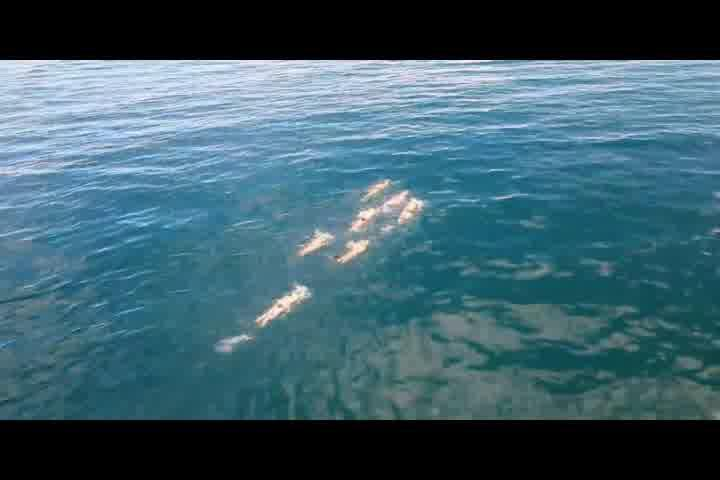human: (256, 278, 304, 329), (337, 239, 368, 268), (298, 229, 324, 260)
